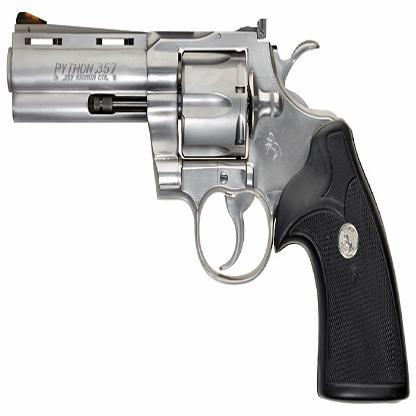gun: (3, 4, 412, 409)
